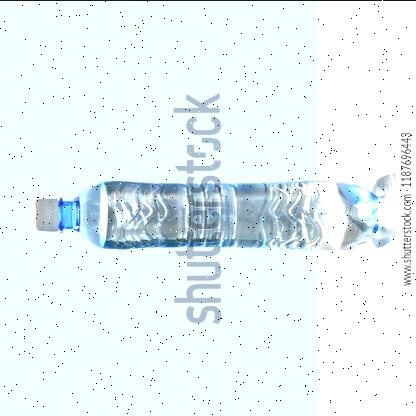Plastic Bottle: (32, 180, 380, 248)
